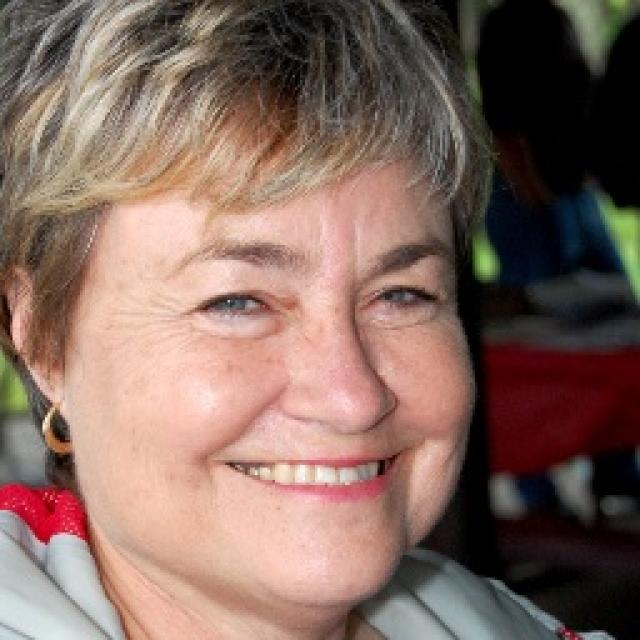earlobe: (0, 263, 66, 409)
